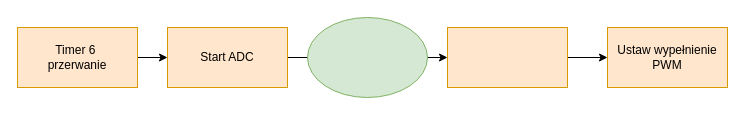
This 745x115 diagram has some shape labels left out. Each missing label, with the centre of its shape:
"ADC przerwanie" goes at (507,57).
"Zmierz napięcie na potencjometrze" goes at (367,57).
